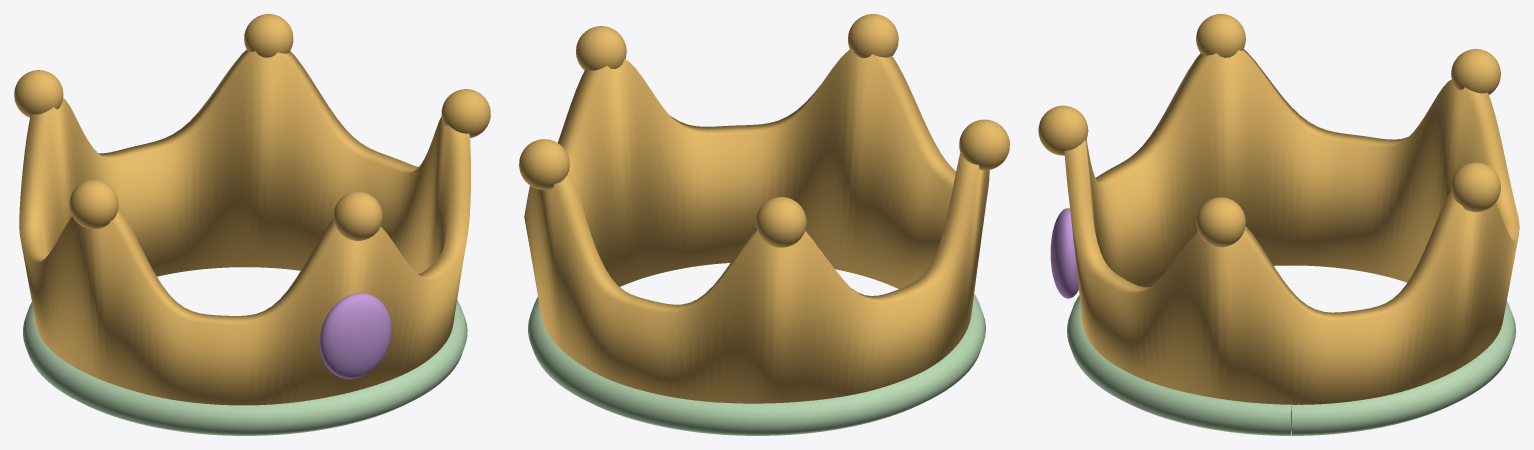
The model's file is 12-crown.glb.
3 views of the same model, side by side, from view 1: azimuth 30°, elevation 25°; view 2: azimuth 150°, elevation 25°; view 3: azimuth 270°, elevation 25° (orthographic). The views are drawn at different scales.
Visible parts, largest first — view 1: crown_band, crown_mint_trim, crown_jewel, crown_tip_0, crown_tip_4, crown_tip_1, crown_tip_3, crown_tip_2; view 2: crown_band, crown_mint_trim, crown_tip_3, crown_tip_2, crown_tip_4, crown_tip_1, crown_tip_0; view 3: crown_band, crown_mint_trim, crown_tip_1, crown_tip_2, crown_jewel, crown_tip_0, crown_tip_3, crown_tip_4.
Boxes of the visible parts, x1,y1,x2,y2 form: crown_band: (19, 49, 470, 405); crown_mint_trim: (23, 299, 467, 435); crown_jewel: (319, 293, 391, 378); crown_tip_0: (333, 191, 382, 240); crown_tip_4: (69, 180, 118, 229); crown_tip_1: (441, 89, 490, 137); crown_tip_3: (14, 70, 63, 117); crown_tip_2: (244, 14, 293, 57); crown_band: (524, 49, 989, 403); crown_mint_trim: (528, 294, 985, 435); crown_tip_3: (756, 197, 806, 247); crown_tip_2: (519, 139, 569, 189); crown_tip_4: (959, 119, 1009, 170); crown_tip_1: (576, 26, 626, 70); crown_tip_0: (848, 14, 898, 57); crown_band: (1064, 49, 1519, 431); crown_mint_trim: (1067, 295, 1515, 435); crown_tip_1: (1196, 197, 1245, 247); crown_tip_2: (1451, 162, 1500, 212); crown_jewel: (1050, 208, 1078, 298); crown_tip_0: (1038, 105, 1088, 155); crown_tip_3: (1451, 49, 1500, 94); crown_tip_4: (1196, 14, 1245, 57).
Size of the model in its own units: 0.6787 by 0.3688 by 0.675.
